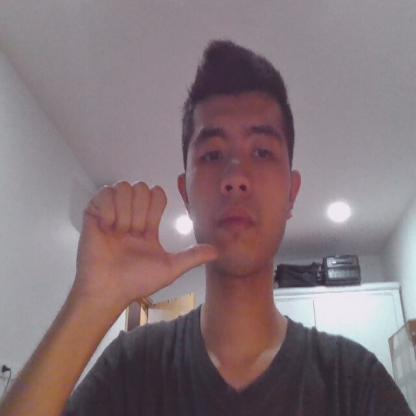left: (71, 177, 218, 303)
